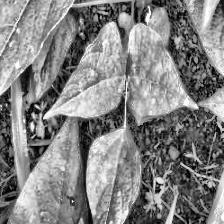Bean Rust: (0, 0, 81, 134), (0, 112, 87, 223), (120, 28, 204, 120), (86, 127, 143, 224)
